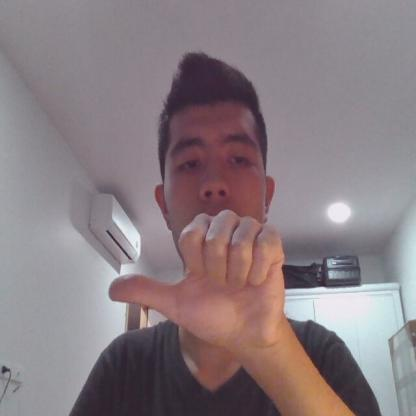right: (110, 209, 287, 348)
